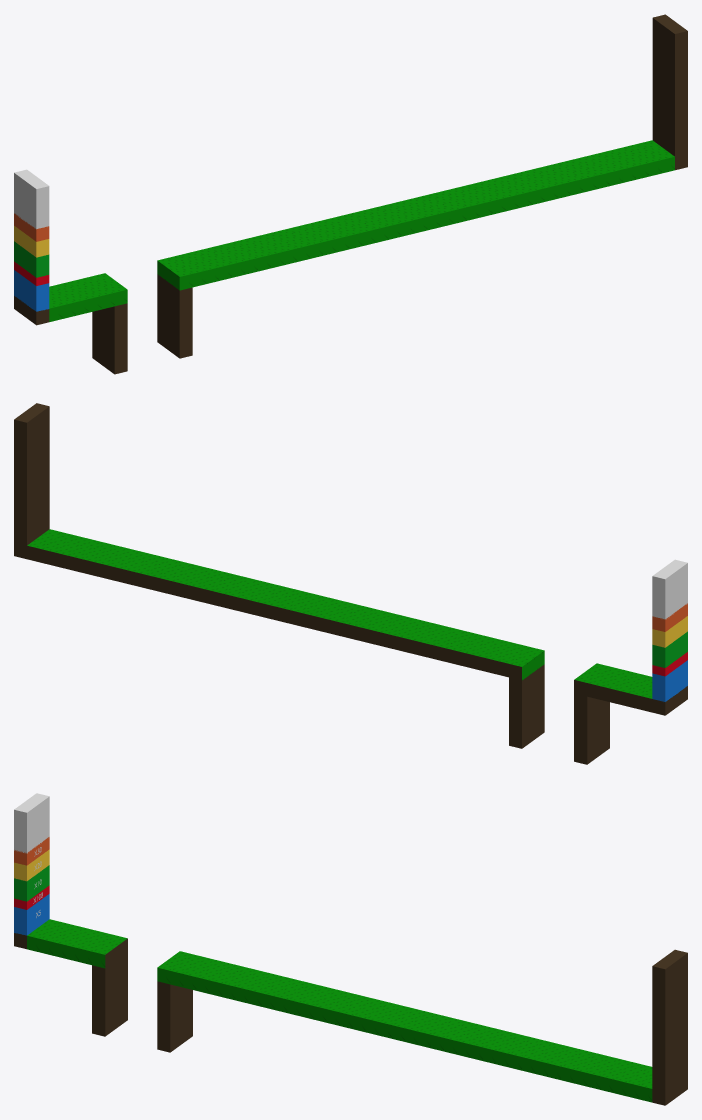
The model's file is platform (1).fbx.
3 views of the same model, one above another, from view 1: azimuth 30°, elevation 25°; view 2: azimuth 150°, elevation 25°; view 3: azimuth 330°, elevation 25° (orthographic).
Parts seen in each view (by area): view 1: Cube.168; view 2: Cube.167; view 3: Cube.168.
Boxes of the visible parts, left/top/right/bottom form: Cube.168: left=29, top=281, right=49, bottom=311; Cube.167: left=652, top=671, right=672, bottom=701; Cube.168: left=14, top=905, right=34, bottom=935.
Bounding box in the file's own units: 62.11 × 300 × 1000.
